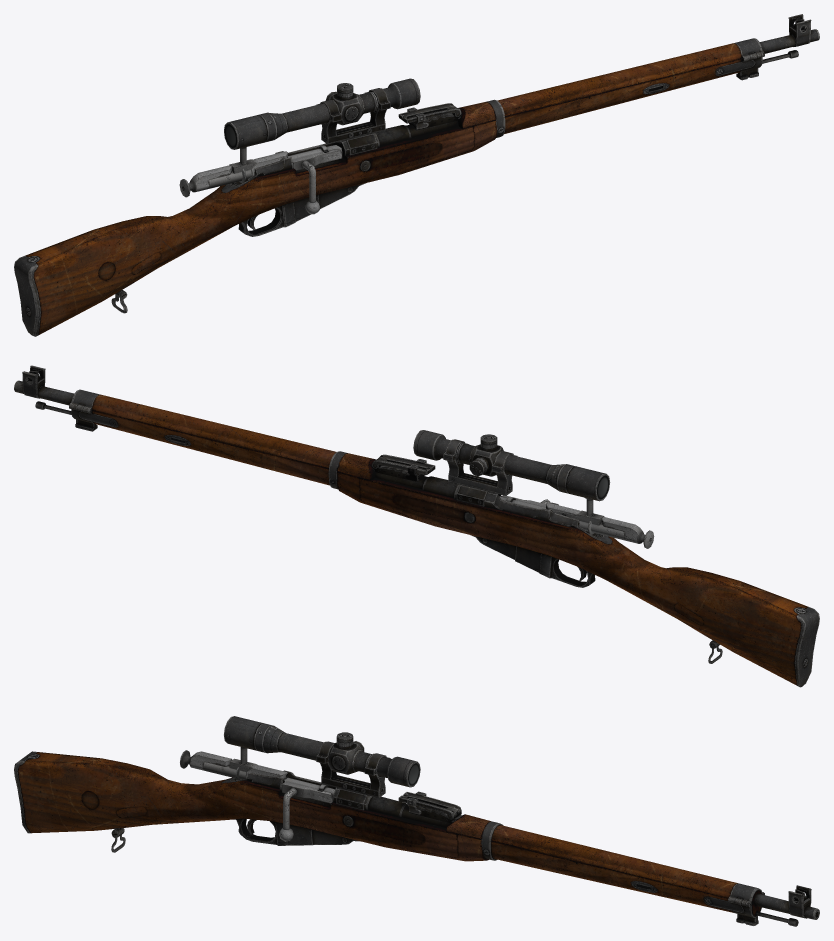
The model's file is Mosin Gun.fbx.
The picture shows the model from 3 angles, top to bottom: view 1: azimuth 30°, elevation 25°; view 2: azimuth 150°, elevation 25°; view 3: azimuth 330°, elevation 25°; orthographic projection.
Visible parts, largest first — view 1: mosin_scop, mosin_no_scop; view 2: mosin_scop, mosin_no_scop; view 3: mosin_scop, mosin_no_scop.
Part boxes in pixels (<box>): mosin_scop: <box>14,14,818,335</box>; mosin_no_scop: <box>30,14,819,336</box>; mosin_scop: <box>15,365,819,687</box>; mosin_no_scop: <box>14,366,812,661</box>; mosin_scop: <box>14,716,816,924</box>; mosin_no_scop: <box>14,747,819,926</box>.
Size of the model in its own units: 17.96 by 3.72 by 1.13.
1 material, 1 textured.
